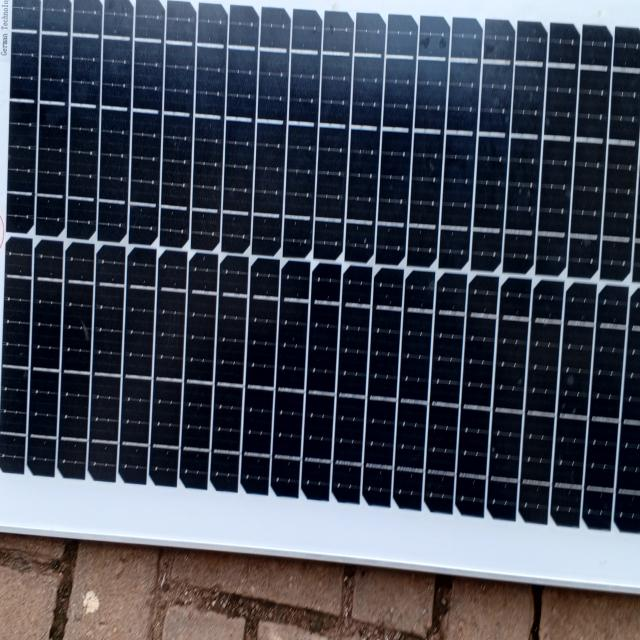Clean: (8, 4, 640, 524)
